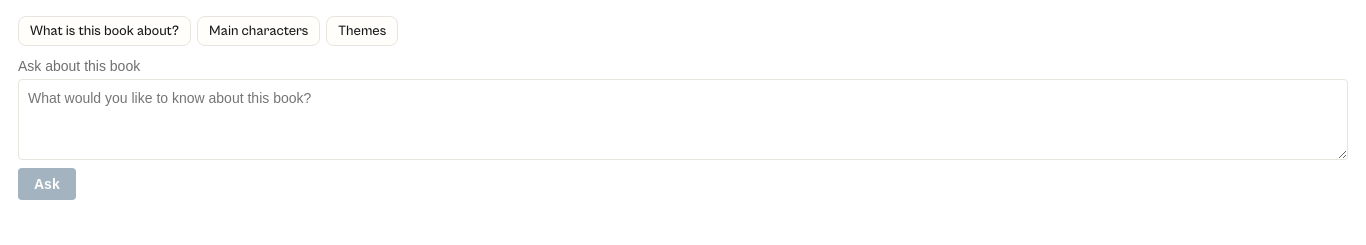
AiPanel › shows an error alert when the AI service fails
This screenshot has width=1366, height=245.
In the text box named "your question": point(683, 120) x1=18 y1=79 x2=1348 y2=160, type "What happened?"
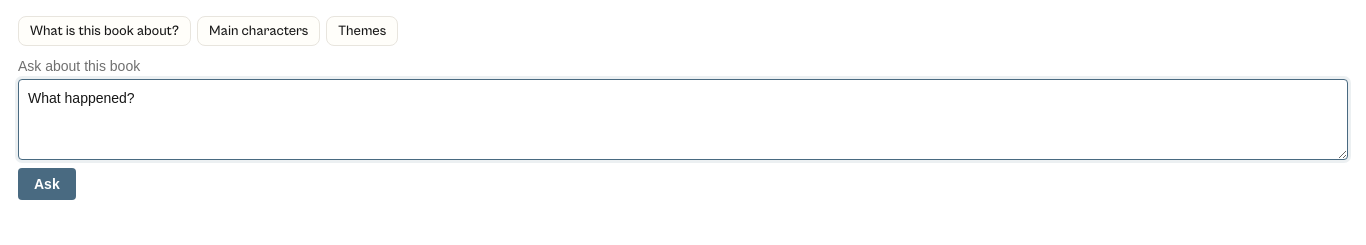
Click the button "Ask": point(47, 184) x1=18 y1=168 x2=76 y2=200
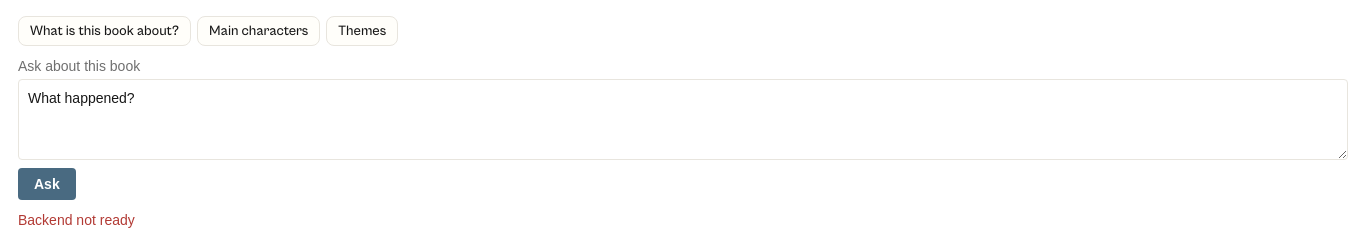
expect the text "Backend not ready" is shown: met, box x1=18 y1=212 x2=135 y2=228
